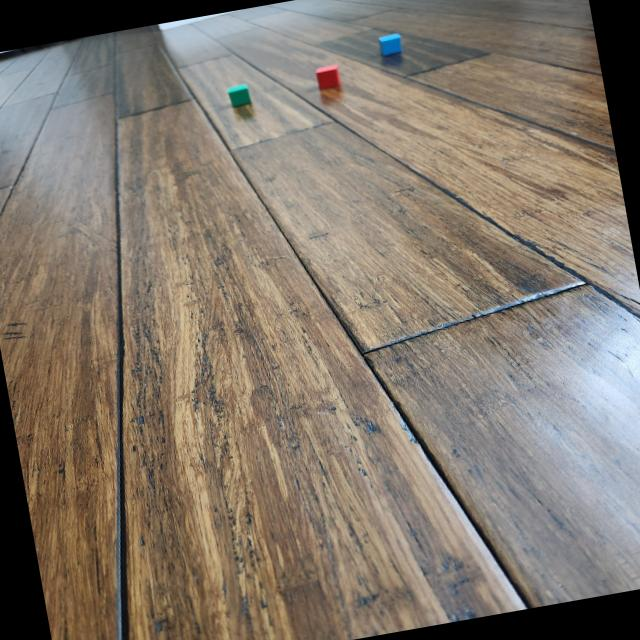bluecube: (376, 31, 406, 58)
green cube: (226, 82, 254, 110)
red cube: (314, 62, 342, 90)
